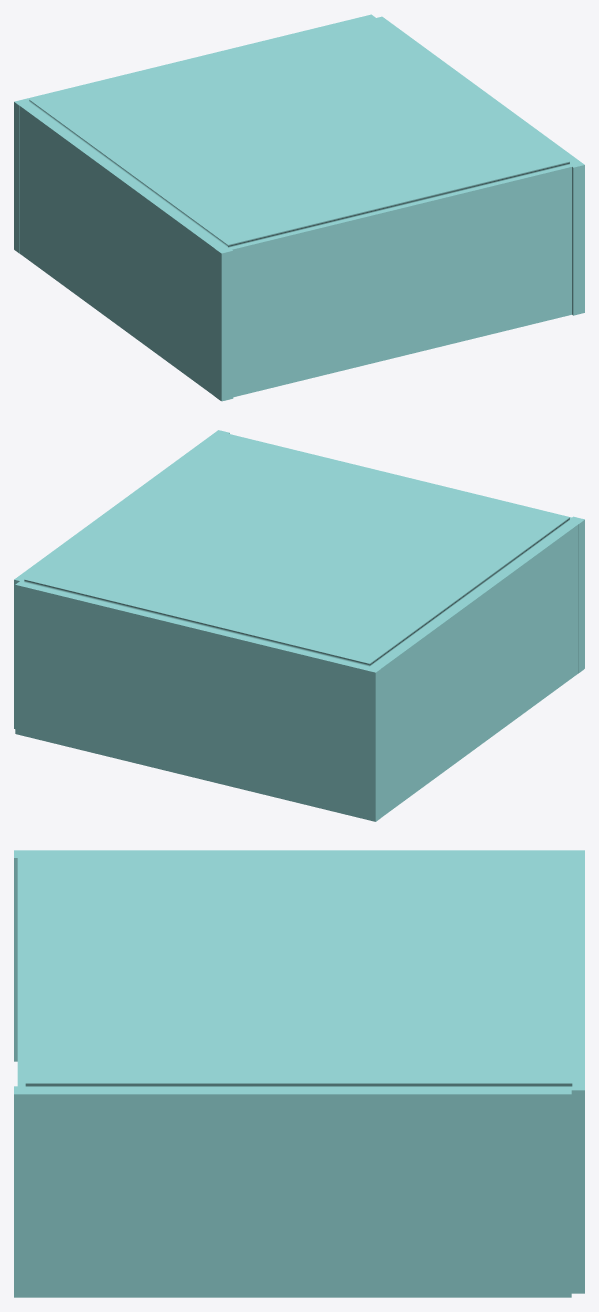
The model's file is FYP_bedroom_graybox.fbx.
3 views of the same model, one above another, from view 1: azimuth 30°, elevation 25°; view 2: azimuth 150°, elevation 25°; view 3: azimuth 270°, elevation 25° (orthographic). The views are drawn at different scales.
Parts seen in each view (by area): view 1: ceiling, wall03, wall01, wall04, wall02; view 2: ceiling, wall02, wall01, wall04, wall03; view 3: ceiling, wall04, wall02, wall01, wall03.
Part boxes in pixels (x1,y1,x2,y2): ceiling: [29, 16, 569, 247]; wall03: [215, 162, 577, 400]; wall01: [19, 103, 233, 401]; wall04: [375, 16, 584, 315]; wall02: [14, 14, 375, 252]; ceiling: [24, 433, 569, 666]; wall02: [15, 581, 380, 821]; wall01: [370, 516, 584, 817]; wall04: [14, 430, 229, 728]; wall03: [218, 432, 583, 673]; ceiling: [25, 853, 572, 1086]; wall04: [14, 1086, 571, 1297]; wall02: [570, 850, 584, 1293]; wall01: [14, 850, 571, 1061]; wall03: [17, 850, 31, 1090].
Size of the model in its own units: 255 by 102 by 252.
